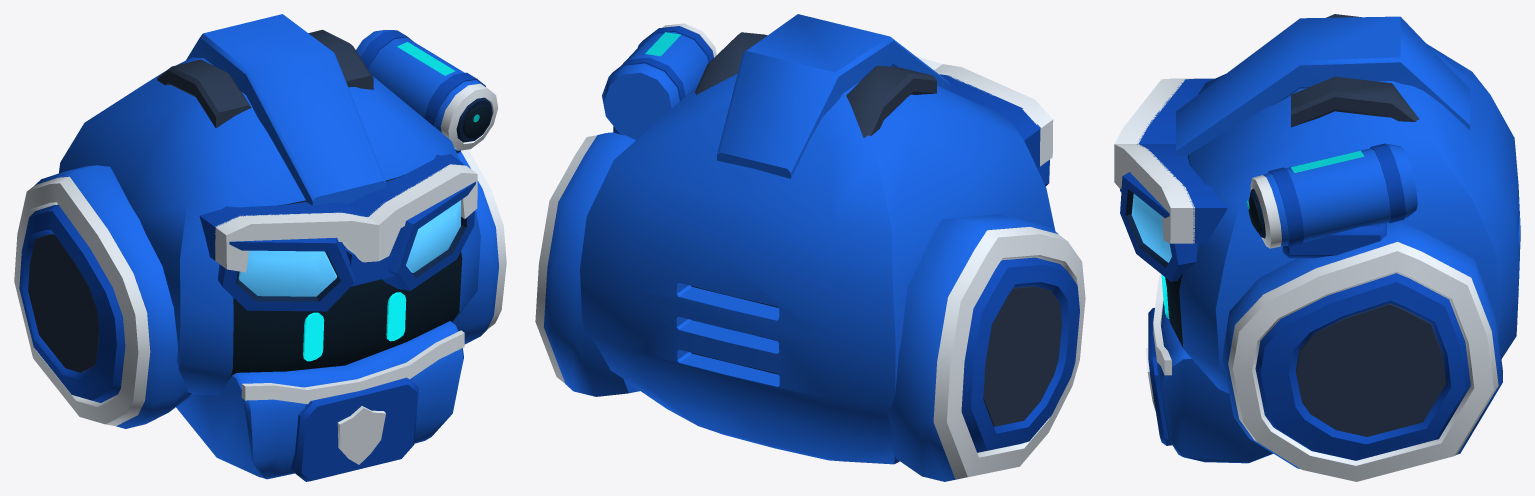
Rendered from copilot_security_v01.glb.
3 views of the same model, side by side, from view 1: azimuth 30°, elevation 25°; view 2: azimuth 150°, elevation 25°; view 3: azimuth 270°, elevation 25° (orthographic). The views are drawn at different scales.
Parts seen in each view (by area): view 1: security_model; view 2: security_model; view 3: security_model.
Part boxes in pixels (x1,y1,x2,y2): security_model: (14, 14, 506, 481); security_model: (535, 14, 1085, 481); security_model: (1114, 14, 1520, 481).
Size of the model in its own units: 2.61 by 2.34 by 2.23.
Materials: 2 (2 with a texture image).
